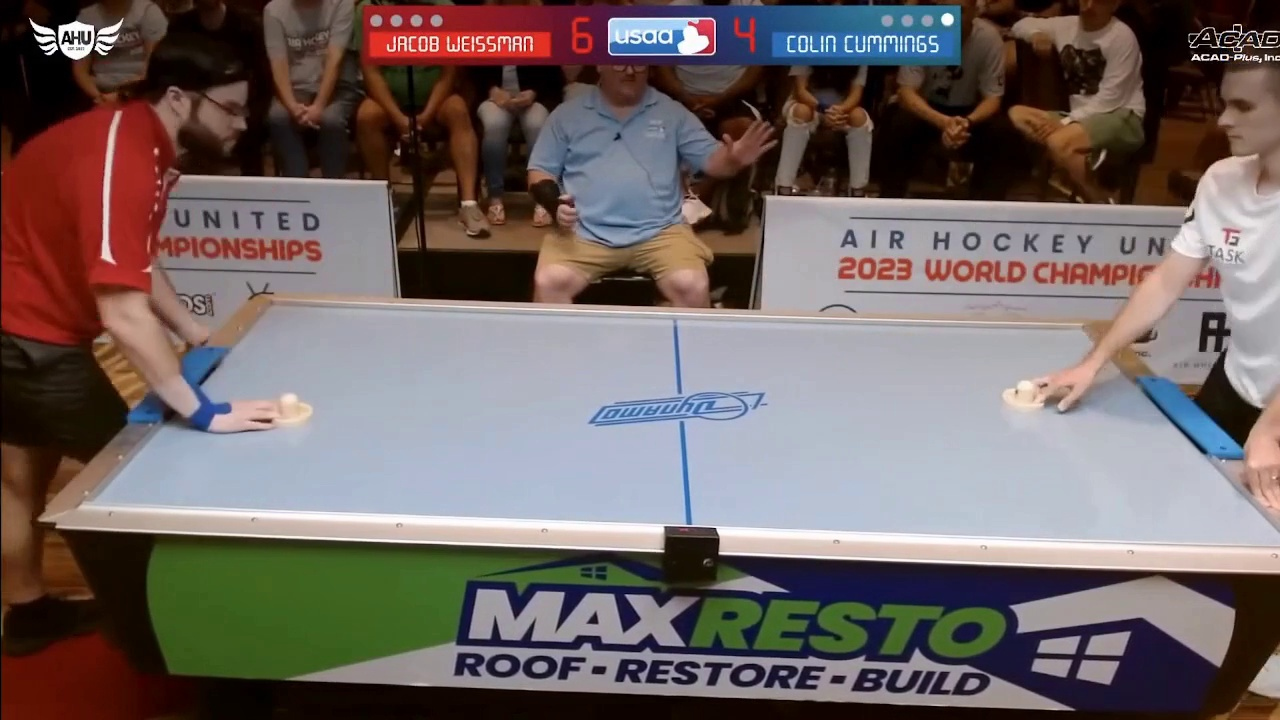player: (998, 377, 1054, 411), (268, 392, 317, 430)
table: (97, 293, 1278, 566)
